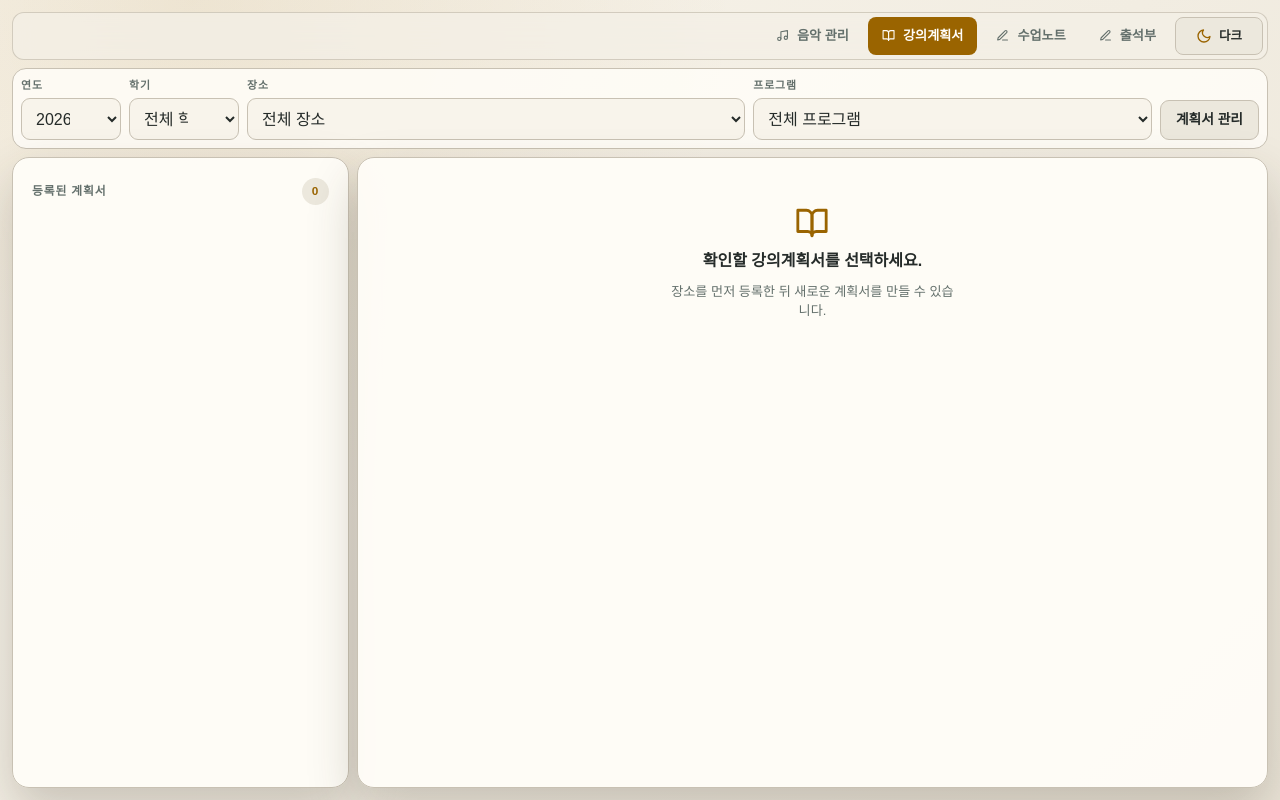
Test: LessonPlans › registers a reusable lesson location
Click the button "계획서 관리" at (1209, 120), box [1160,100,1259,140]
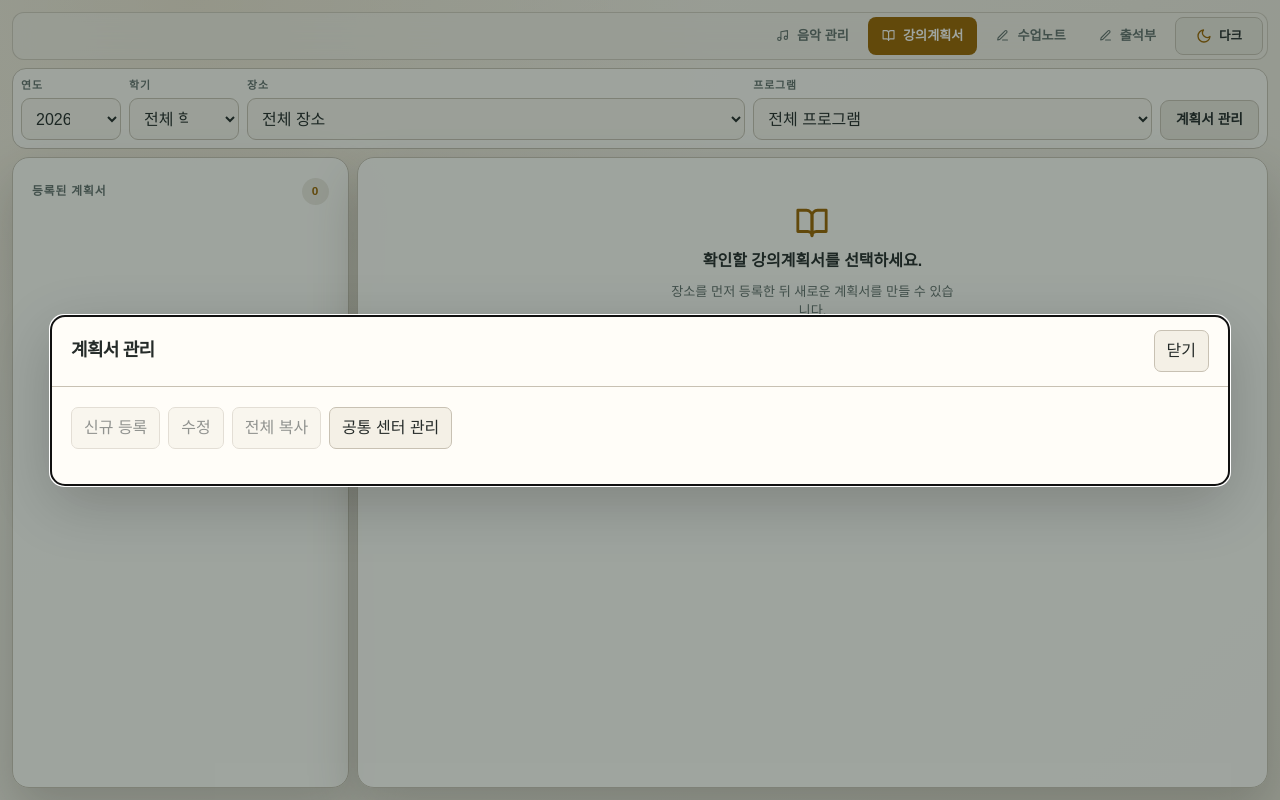
Click the button "공통 센터 관리" at (391, 428), box [329,406,452,448]
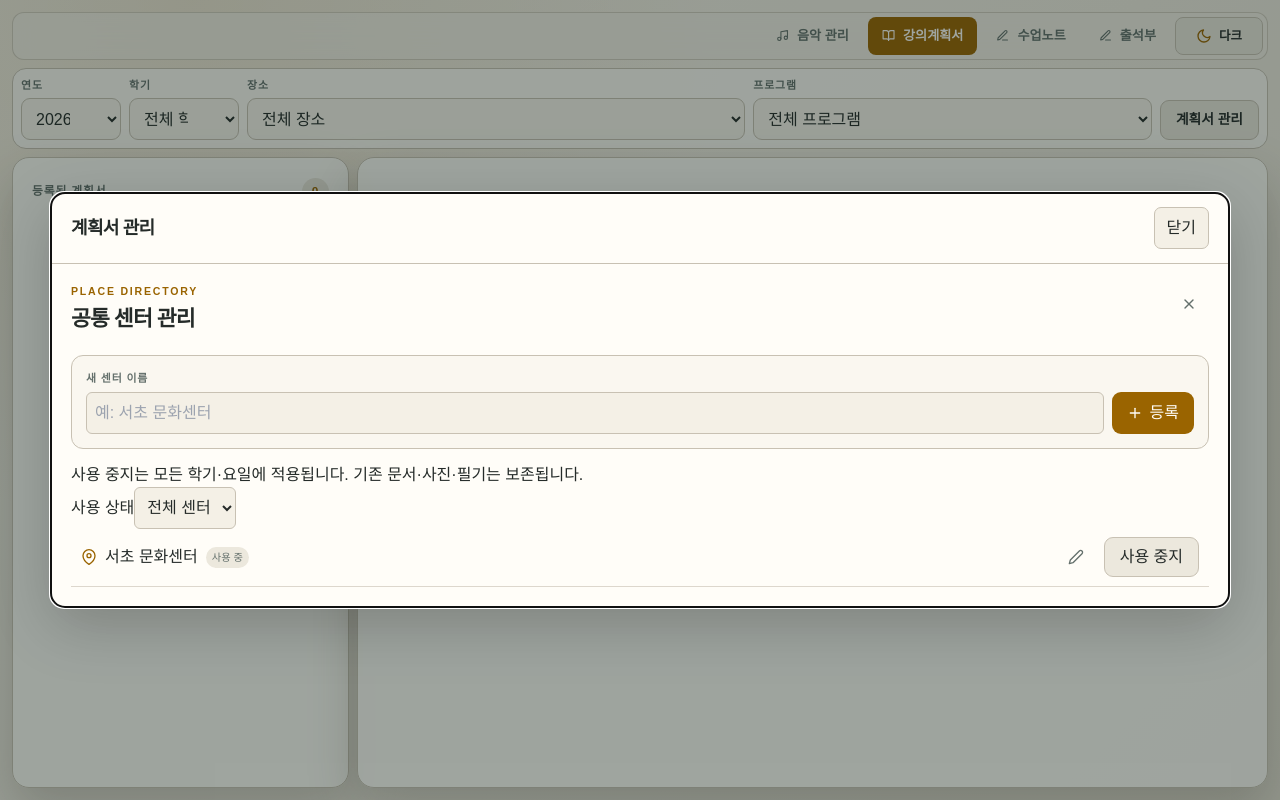
Now the field labelled "새 센터 이름" is shown
Type "마포 배움터" into the field labelled "새 센터 이름" at (595, 413), box [86,392,1104,434]
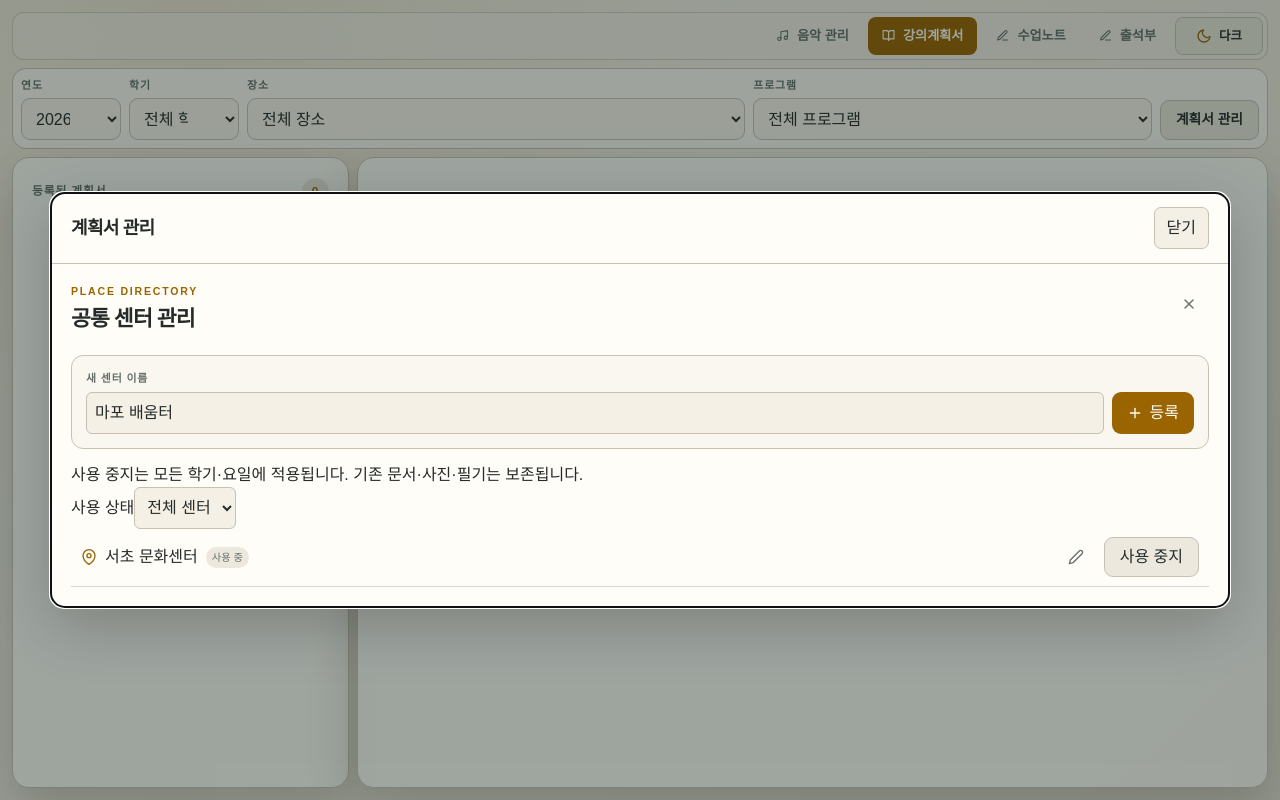
Click the button "등록" at (1153, 413), box [1112,392,1194,434]
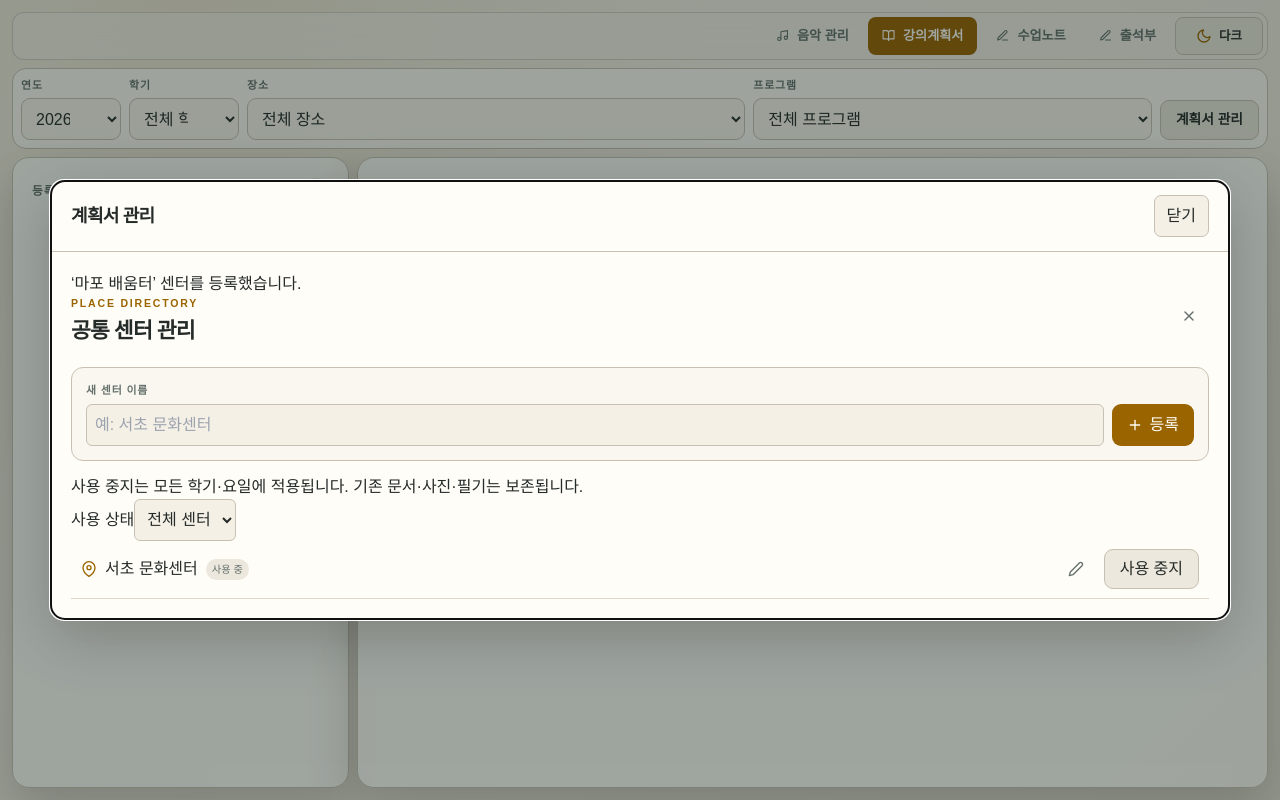
Now the text "‘마포 배움터’ 센터를 등록했습니다." is shown, box [71,275,301,292]
